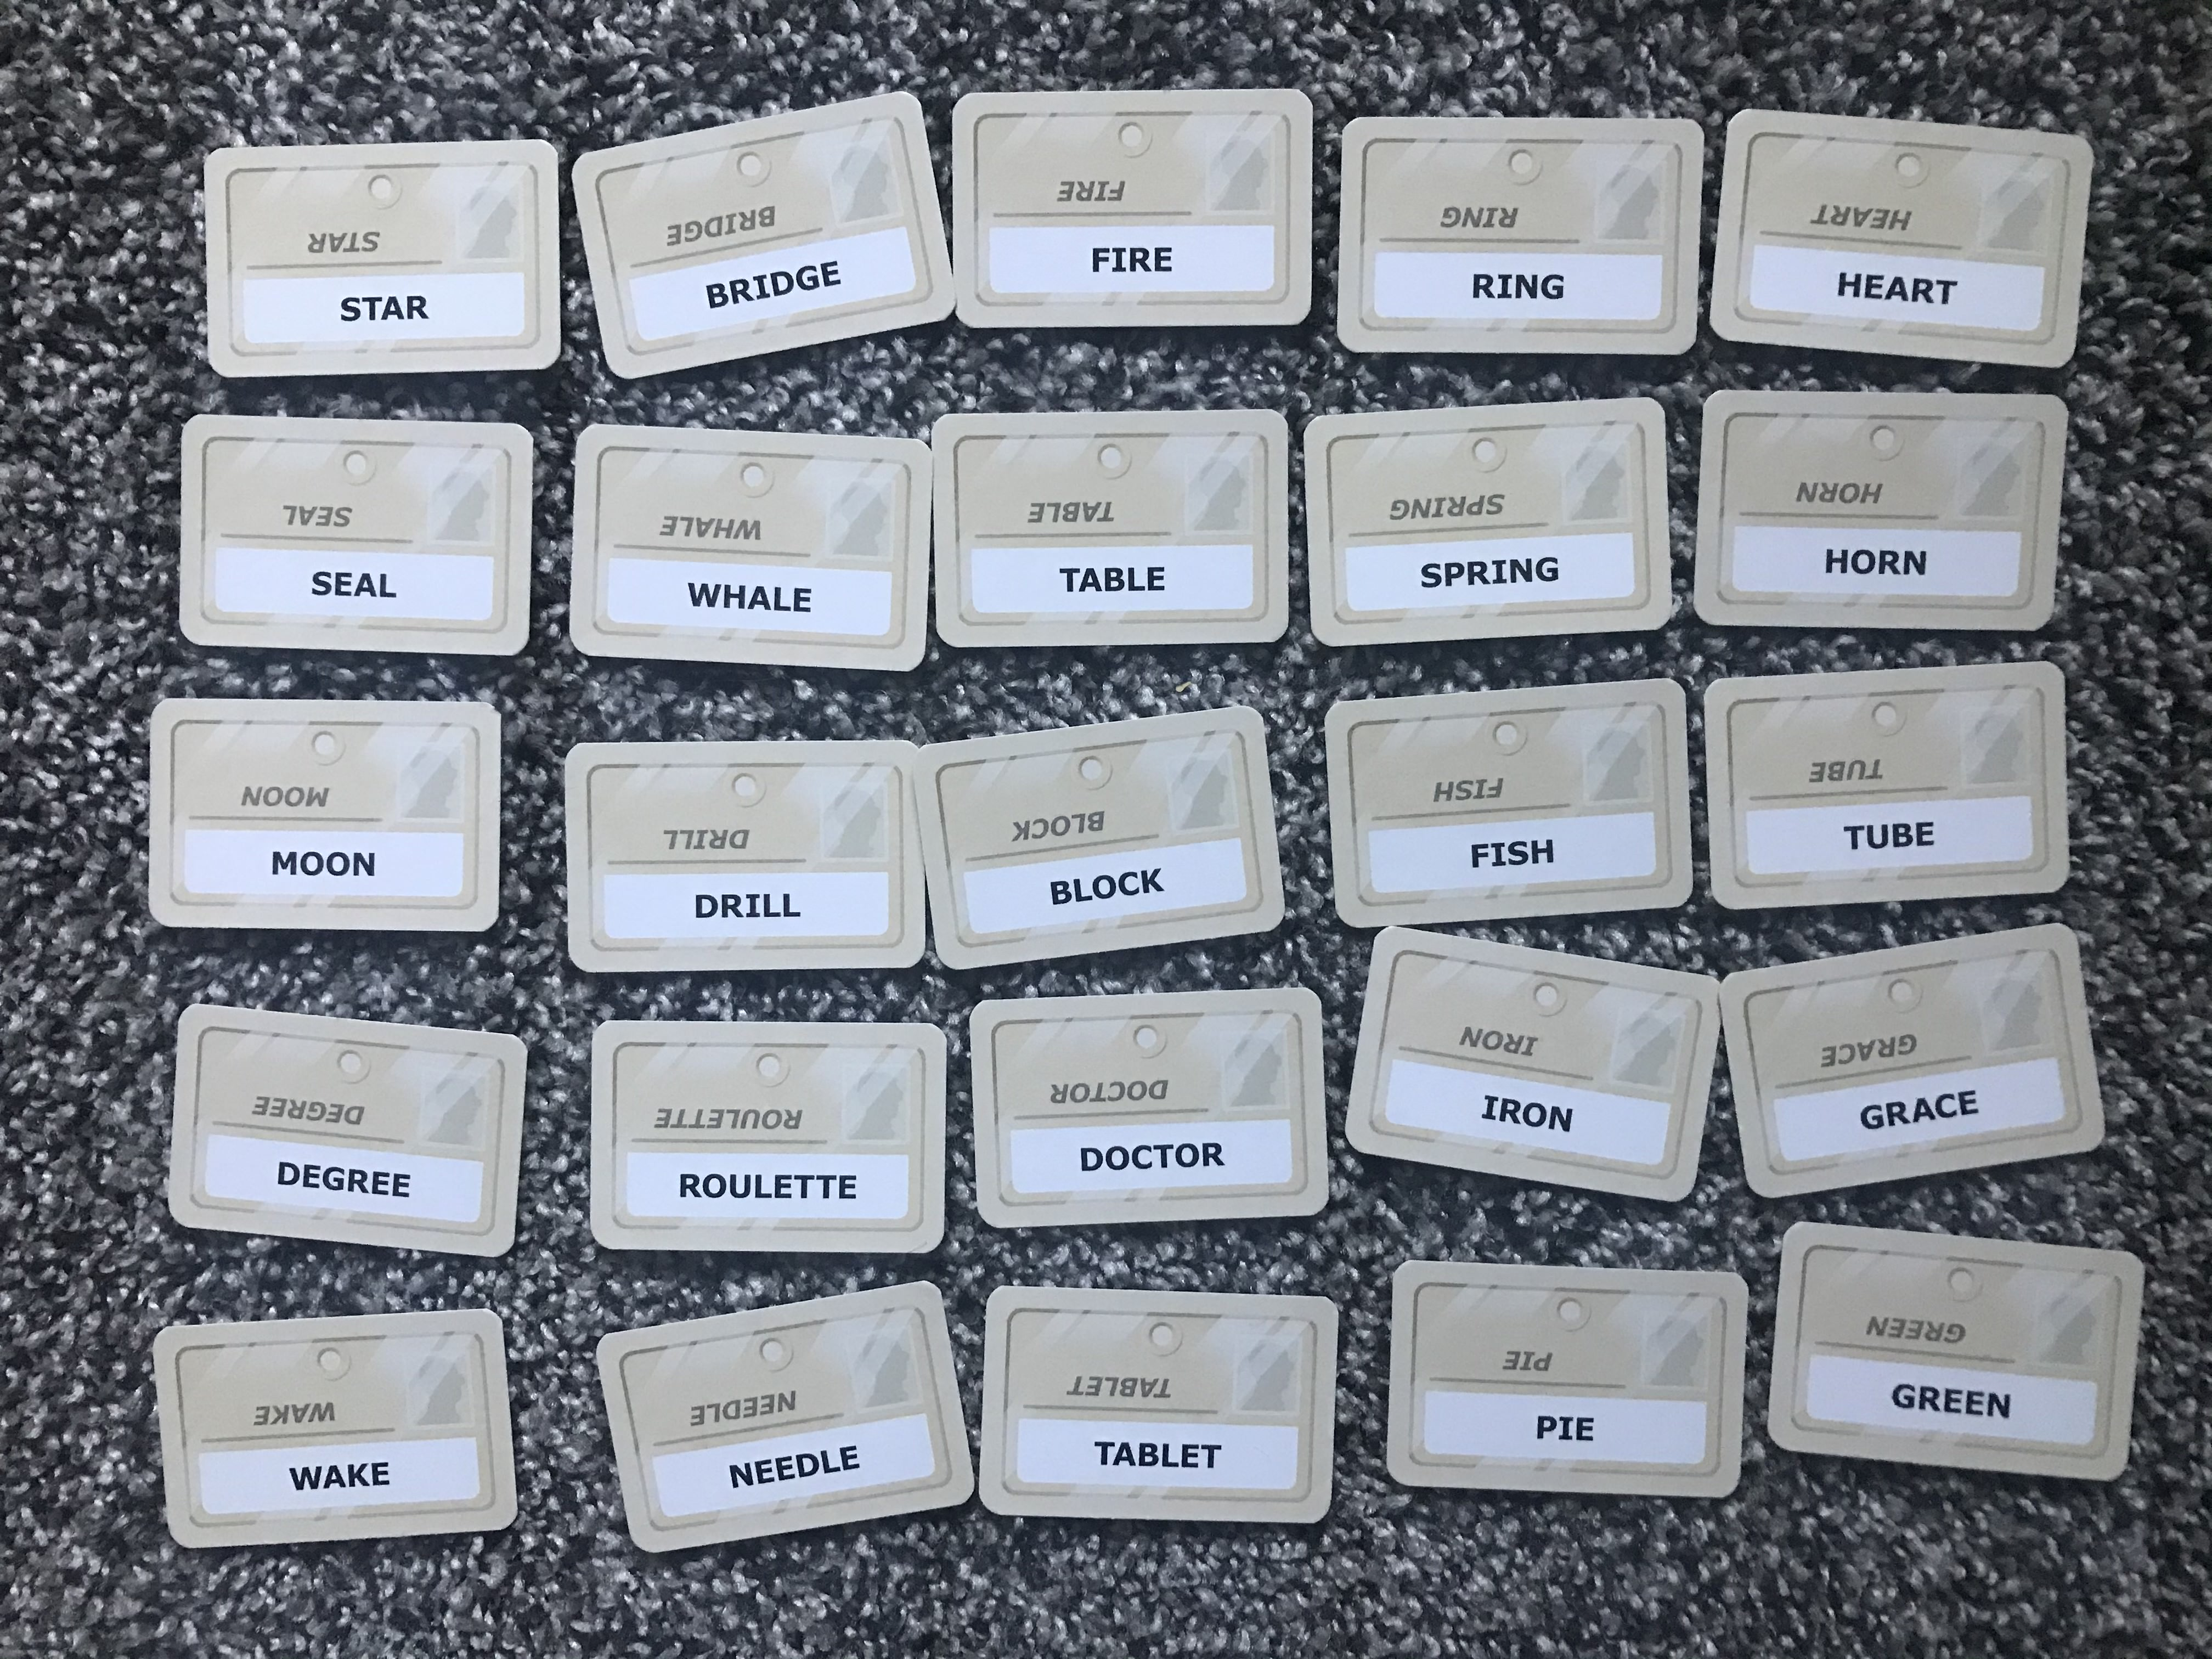A: (745, 579, 772, 624), (319, 1457, 348, 1495), (1078, 561, 1104, 601), (1111, 1436, 1137, 1476), (383, 291, 408, 333), (1911, 1086, 1935, 1127), (354, 568, 376, 606), (1886, 268, 1905, 310)
